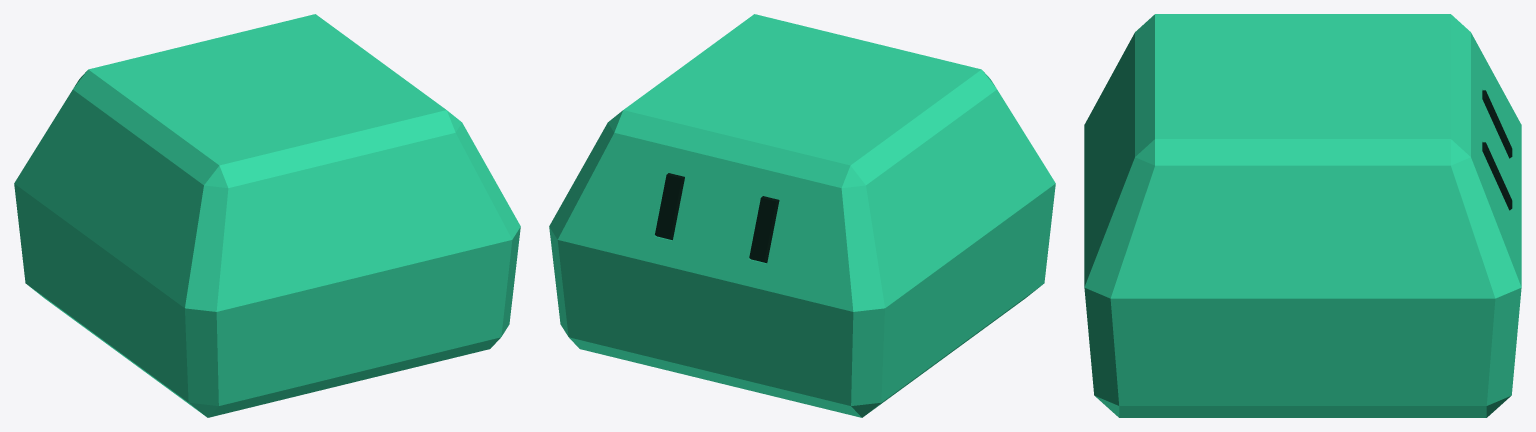
Rendered from Slime.fbx.
3 renders of one model, left to right at view 1: azimuth 30°, elevation 25°; view 2: azimuth 150°, elevation 25°; view 3: azimuth 270°, elevation 25°, orthographic. The views are drawn at different scales.
Parts seen in each view (by area): view 1: Cube.001; view 2: Cube.001; view 3: Cube.001.
Boxes of the visible parts, bbox=[...] form: Cube.001: bbox=[14, 14, 520, 417]; Cube.001: bbox=[549, 14, 1055, 417]; Cube.001: bbox=[1084, 14, 1521, 417].
Size of the model in its own units: 2.45 by 1.63 by 2.45.
